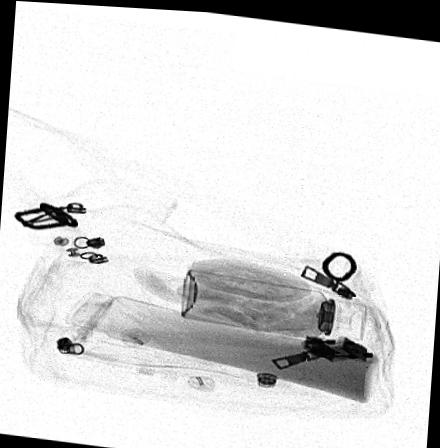Sprayer: (180, 265, 365, 336)
